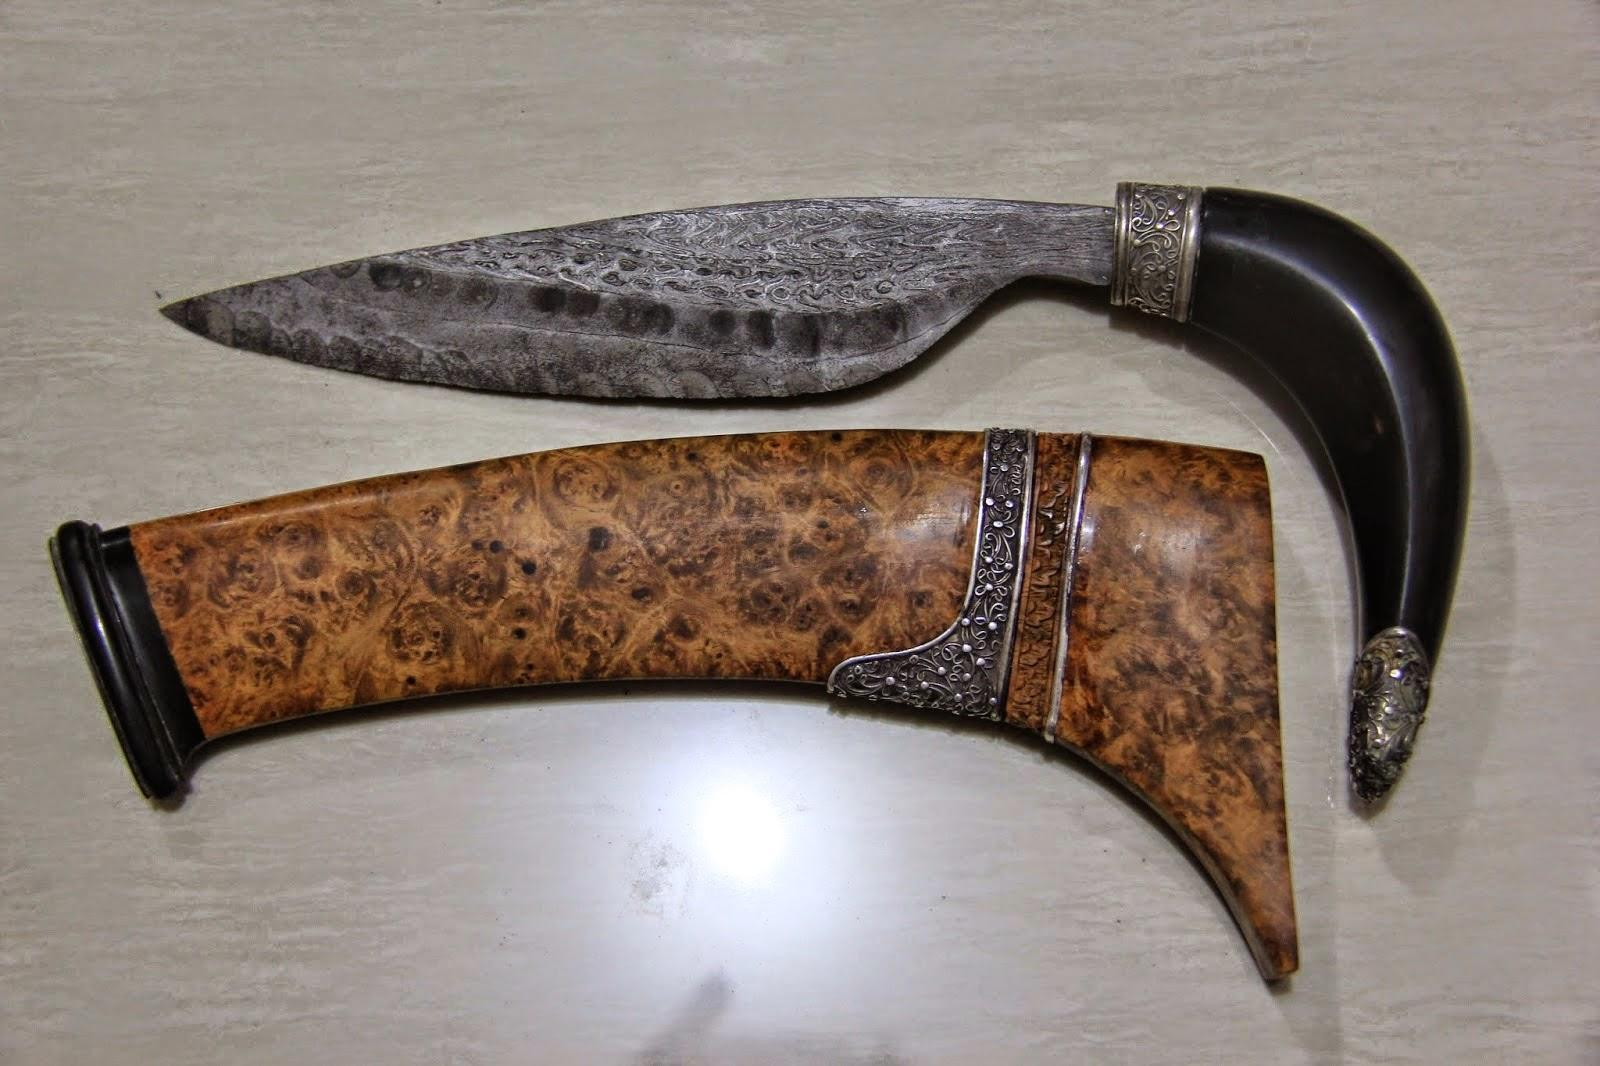facao: (165, 182, 1469, 805)
